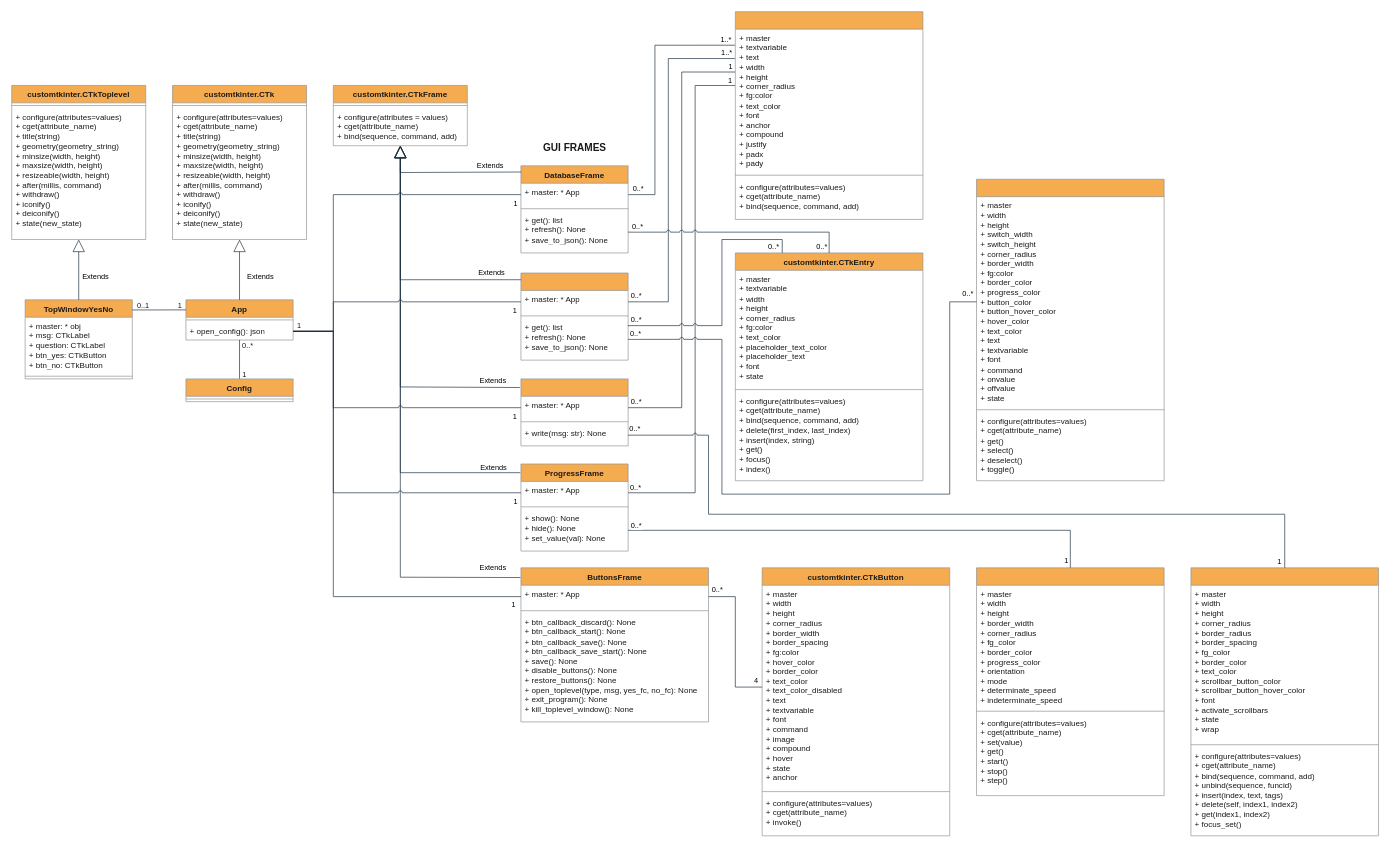
The diagram is 1390 pixels wide and 850 high, and some of its shapes have lost their labels. Each missing label, with the box of its shape:
customtkinter.CTkLabel: (735, 11, 923, 219)
customtkinter.CTkProgressBar: (976, 567, 1164, 796)
customtkinter.CTkSwitch: (976, 179, 1164, 481)
customtkinter.CTkTextbox: (1190, 567, 1379, 836)
ProcessFrame: (520, 272, 628, 360)
TextboxFrame: (520, 378, 628, 446)
